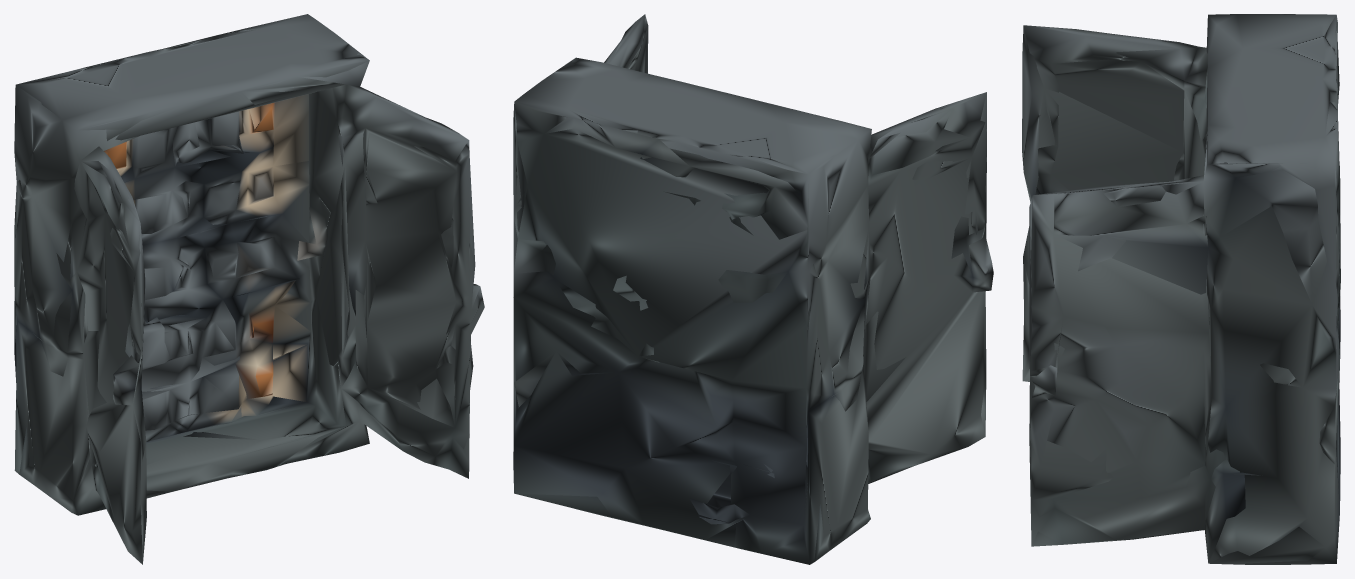
Rendered from gen3d-fuse-box-lod0.glb.
The picture shows the model from 3 angles, left to right: view 1: azimuth 30°, elevation 25°; view 2: azimuth 150°, elevation 25°; view 3: azimuth 270°, elevation 25°; orthographic projection. The views are drawn at different scales.
Visible parts, largest first — view 1: part_0; view 2: part_0; view 3: part_0.
Boxes of the visible parts, box(x1,y1,x2,y2) form: part_0: box(14, 14, 484, 564); part_0: box(513, 14, 993, 564); part_0: box(1022, 14, 1340, 564).
Size of the model in its own units: 0.9875 by 0.9999 by 0.7151.
